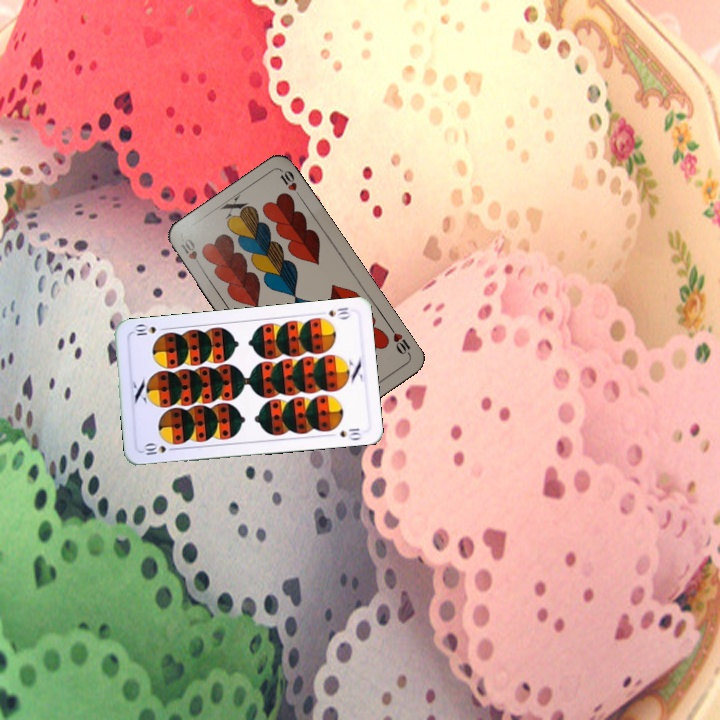H10: (176, 234, 205, 272), (385, 322, 413, 358)
S10: (139, 440, 179, 457), (325, 303, 353, 322)
